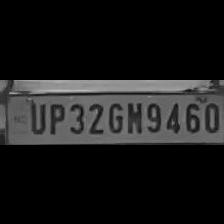0: (202, 99, 220, 133)
2: (86, 99, 104, 134)
3: (65, 99, 84, 134)
4: (162, 97, 180, 132)
6: (182, 99, 200, 133)
9: (142, 99, 162, 133)
G: (105, 99, 125, 133)
N: (124, 99, 142, 134)
P: (45, 99, 65, 135)
U: (24, 98, 46, 134)
